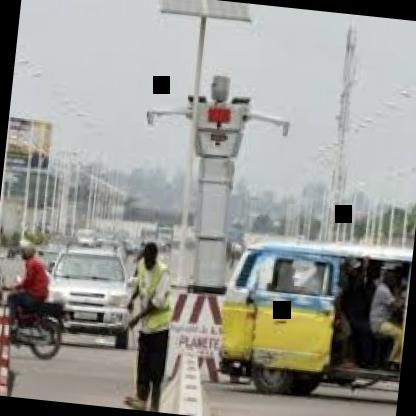car: (198, 226, 413, 416), (10, 230, 174, 358)
